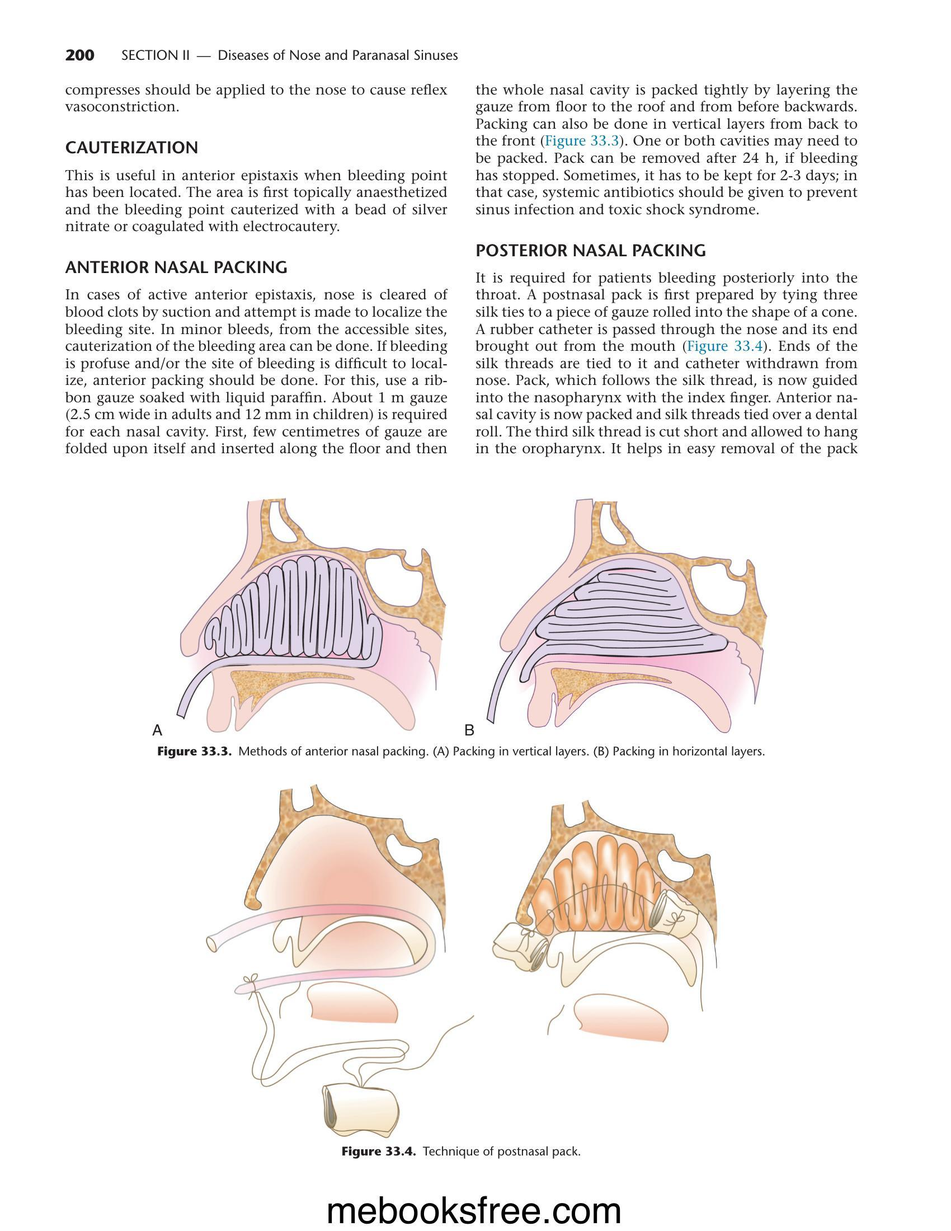caption: (156, 744, 766, 760), (341, 1144, 580, 1160), (150, 723, 164, 737), (464, 723, 475, 737)
header: (120, 49, 458, 61)
image: (160, 763, 759, 1144), (455, 487, 790, 742), (139, 489, 452, 741)
sub-section-heading: (475, 242, 707, 258), (65, 259, 288, 275), (64, 139, 198, 155)
text: (475, 271, 858, 459), (64, 288, 447, 458), (474, 83, 858, 219), (64, 168, 449, 236), (64, 85, 447, 113)
